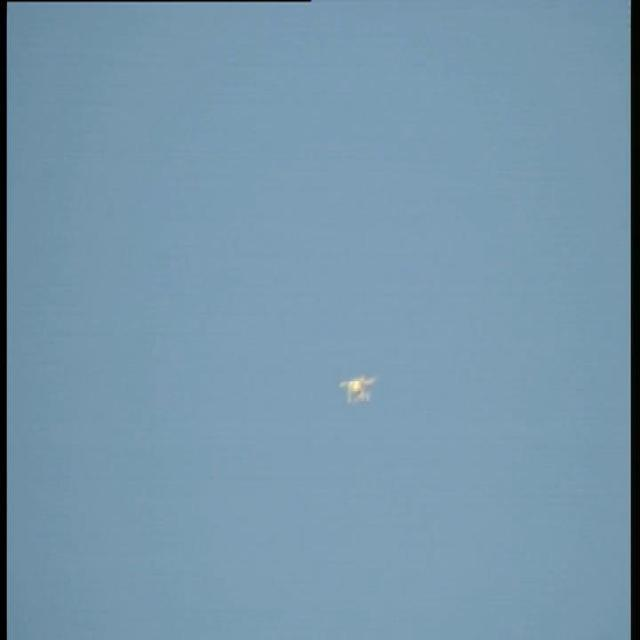drone: (336, 368, 380, 406)
